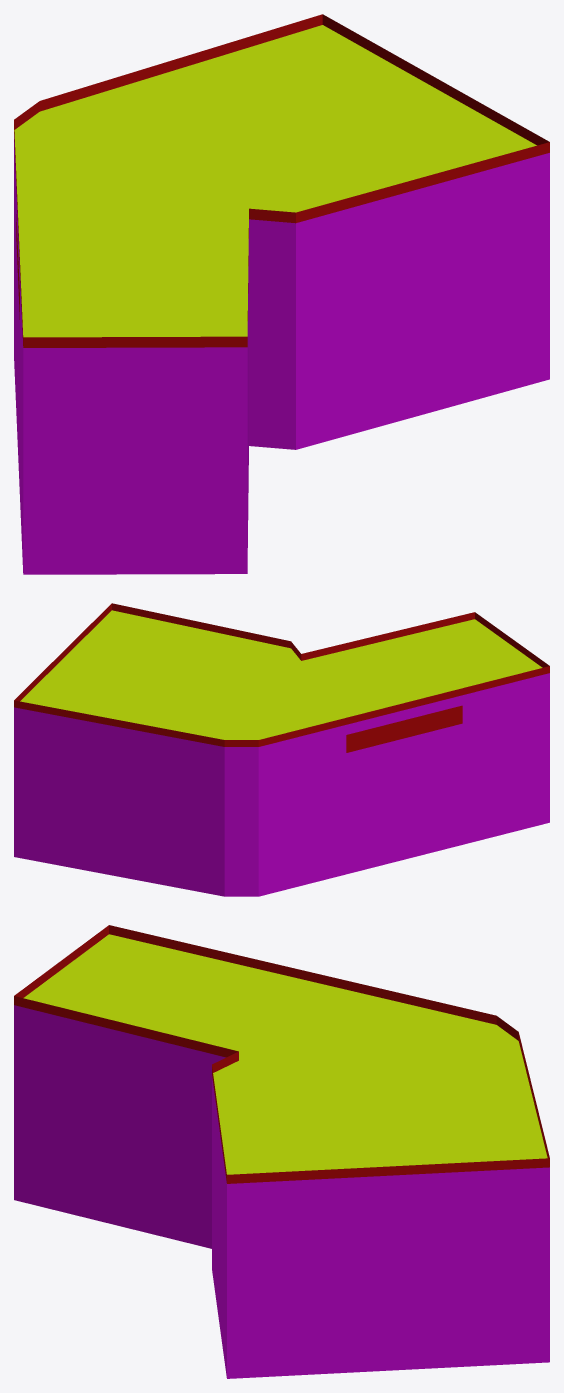
File: scl_7.glb
3 renders of one model, top to bottom at view 1: azimuth 30°, elevation 25°; view 2: azimuth 150°, elevation 25°; view 3: azimuth 270°, elevation 25°, orthographic. The views are drawn at different scales.
Visible parts, largest first — view 1: scl_7; view 2: scl_7; view 3: scl_7.
Part boxes in pixels (bbox=[...]): scl_7: bbox=[14, 14, 549, 574]; scl_7: bbox=[14, 603, 549, 896]; scl_7: bbox=[14, 925, 549, 1378].
Bounding box in the file's own units: 20.41 × 7.78 × 18.51.
